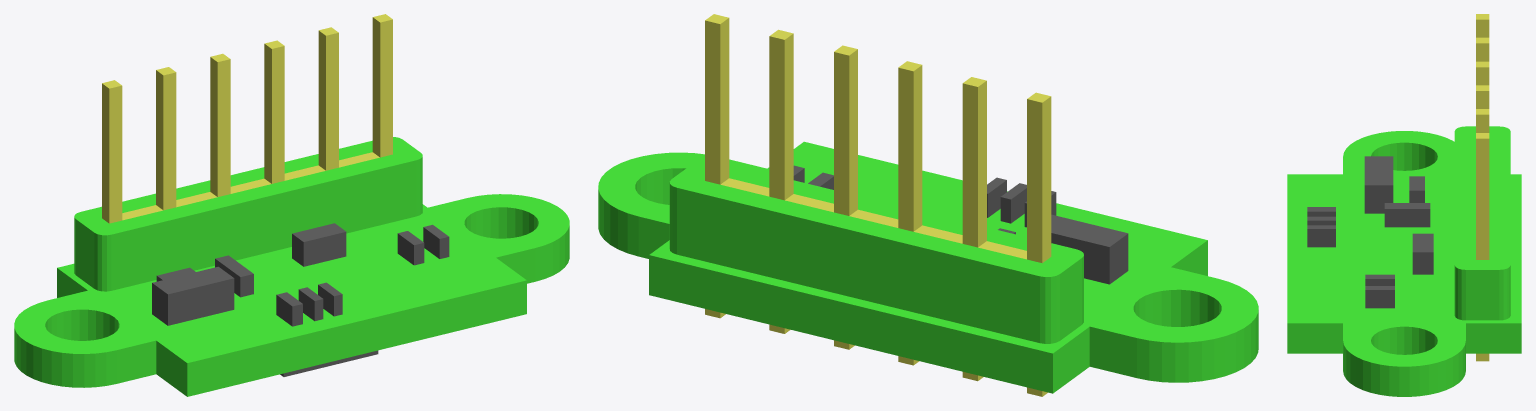
File: sensor.glb
3 views of the same model, side by side, from view 1: azimuth 30°, elevation 25°; view 2: azimuth 150°, elevation 25°; view 3: azimuth 270°, elevation 25° (orthographic). The views are drawn at different scales.
Visible parts, largest first — view 1: VL53L0X TOF Sensor Distancia, pins, chip9, chip3, chip7, chip1, chip4, chip2, chip6, chip5; view 2: VL53L0X TOF Sensor Distancia, pins, chip9, chip6, pins2, chip5; view 3: VL53L0X TOF Sensor Distancia, pins, chip9, chip7, chip3, chip2, chip5, chip8, chip1, chip4, chip6.
Part boxes in pixels (<box>): VL53L0X TOF Sensor Distancia: <box>14,137,569,396</box>; pins: <box>102,14,392,223</box>; chip9: <box>152,266,234,325</box>; chip3: <box>292,223,346,266</box>; chip7: <box>215,255,253,297</box>; chip1: <box>397,231,424,265</box>; chip4: <box>276,292,302,326</box>; chip2: <box>423,224,449,258</box>; chip6: <box>298,287,323,321</box>; chip5: <box>318,282,342,316</box>; VL53L0X TOF Sensor Distancia: <box>598,141,1258,393</box>; pins: <box>705,14,1051,263</box>; chip9: <box>1051,214,1128,284</box>; chip6: <box>1000,183,1026,223</box>; pins2: <box>705,309,1047,396</box>; chip5: <box>987,177,1006,217</box>; VL53L0X TOF Sensor Distancia: <box>1287,126,1521,396</box>; pins: <box>1476,14,1489,259</box>; chip9: <box>1364,156,1393,213</box>; chip7: <box>1384,203,1430,227</box>; chip3: <box>1412,233,1433,274</box>; chip2: <box>1365,286,1394,308</box>; chip5: <box>1307,225,1335,247</box>; chip8: <box>1409,176,1424,202</box>; chip1: <box>1365,274,1394,285</box>; chip4: <box>1307,207,1335,216</box>; chip6: <box>1307,216,1335,225</box>.
Bounding box in the file's own units: 24.98 × 11.3 × 10.5.
